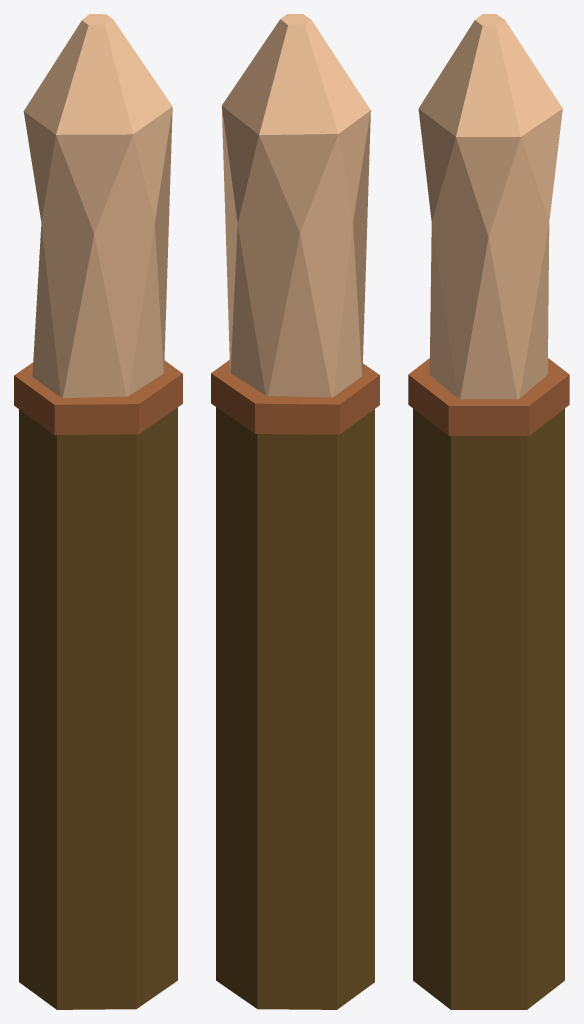
The model's file is Old_Brush_V1.fbx.
3 views of the same model, side by side, from view 1: azimuth 30°, elevation 25°; view 2: azimuth 150°, elevation 25°; view 3: azimuth 270°, elevation 25° (orthographic).
Parts seen in each view (by area): view 1: Circle, Circle.001; view 2: Circle, Circle.001; view 3: Circle, Circle.001.
Boxes of the visible parts, x1,y1,x2,y2 form: Circle: [14, 360, 182, 1009]; Circle.001: [23, 14, 172, 397]; Circle: [211, 360, 379, 1009]; Circle.001: [221, 14, 370, 397]; Circle: [408, 358, 569, 1009]; Circle.001: [418, 14, 562, 399].
Bounding box in the file's own units: 0.1903 × 1.36 × 0.2075.
